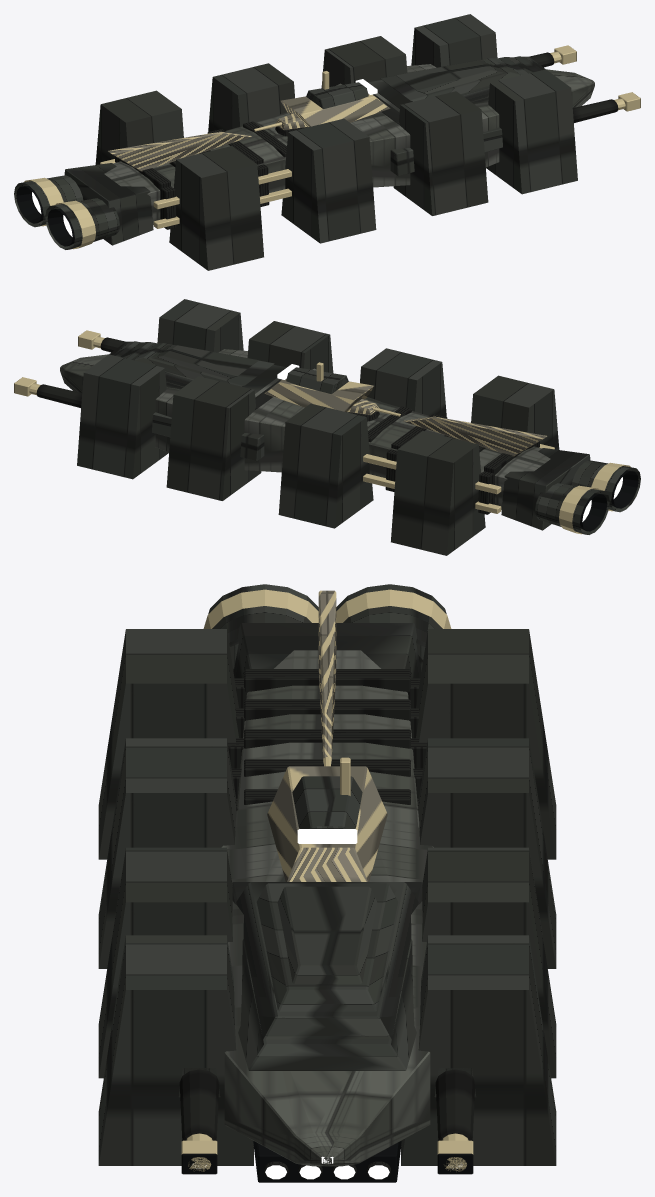
Rendered from destroyer.glb.
The picture shows the model from 3 angles, top to bottom: view 1: azimuth 30°, elevation 25°; view 2: azimuth 150°, elevation 25°; view 3: azimuth 270°, elevation 25°; orthographic projection. The views are drawn at different scales.
Visible parts, largest first — view 1: destroyer; view 2: destroyer; view 3: destroyer.
Part boxes in pixels (x1,y1,x2,y2): destroyer: (14, 14, 640, 270); destroyer: (14, 299, 640, 555); destroyer: (98, 584, 556, 1182).
Size of the model in its own units: 30 by 5.63 by 10.6.
1 material, 1 textured.
